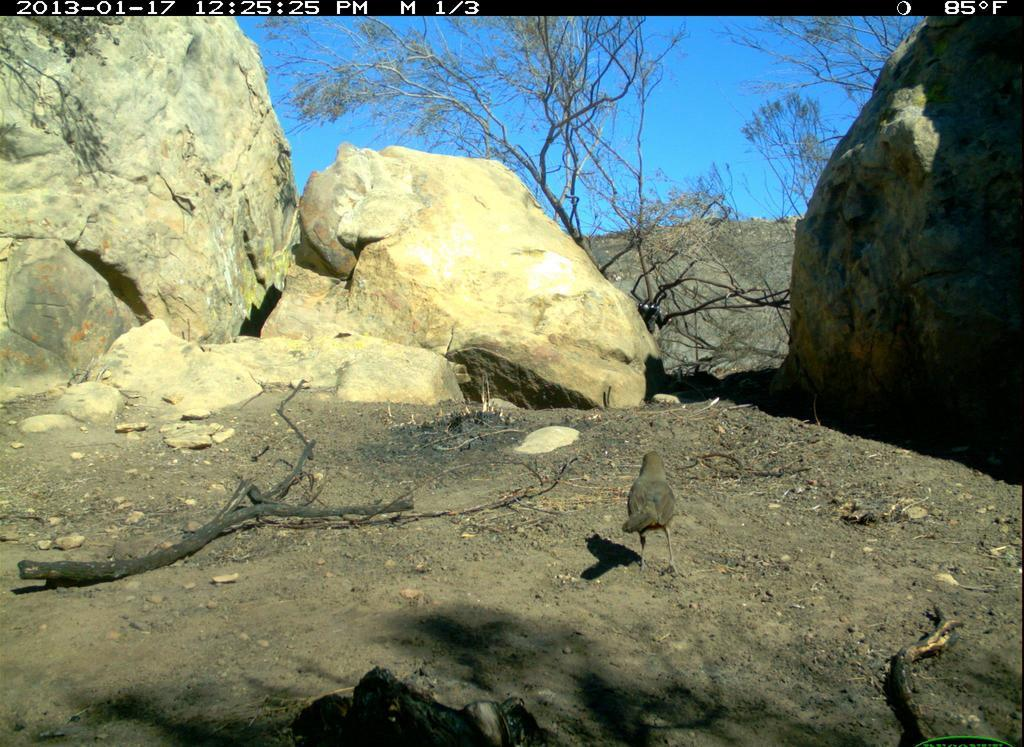bird: (619, 441, 689, 577)
